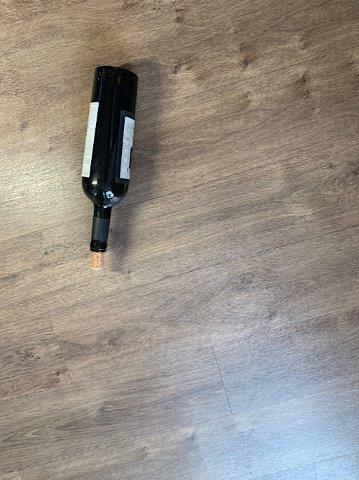botolkaca: (83, 65, 140, 256)
